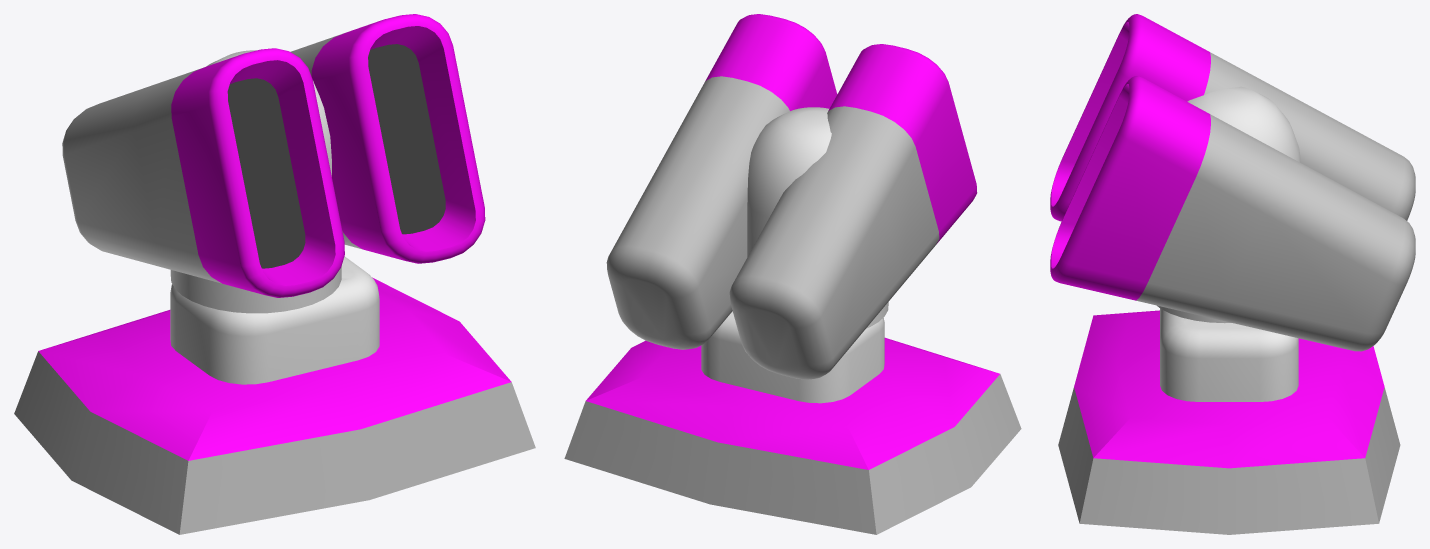
File: MissileTurret.fbx
3 renders of one model, left to right at view 1: azimuth 30°, elevation 25°; view 2: azimuth 150°, elevation 25°; view 3: azimuth 270°, elevation 25°, orthographic. The views are drawn at different scales.
Parts seen in each view (by area): view 1: Cube.036, Cube.034, Cube.035, Cylinder.036; view 2: Cube.036, Cube.034, Cube.035, Cylinder.036; view 3: Cube.036, Cube.034, Cube.035, Cylinder.036.
Boxes of the visible parts, x1,y1,x2,y2 form: Cube.036: (62, 14, 485, 297); Cube.034: (14, 277, 535, 534); Cube.035: (170, 256, 379, 384); Cylinder.036: (170, 50, 341, 313); Cube.036: (606, 14, 977, 379); Cube.034: (564, 337, 1021, 534); Cube.035: (701, 311, 884, 403); Cylinder.036: (747, 107, 888, 328); Cube.036: (1050, 14, 1415, 351); Cube.034: (1058, 310, 1400, 534); Cube.035: (1160, 308, 1298, 401); Cylinder.036: (1157, 86, 1300, 323).
Bounding box in the file's own units: 96.44 × 97.93 × 82.87.
